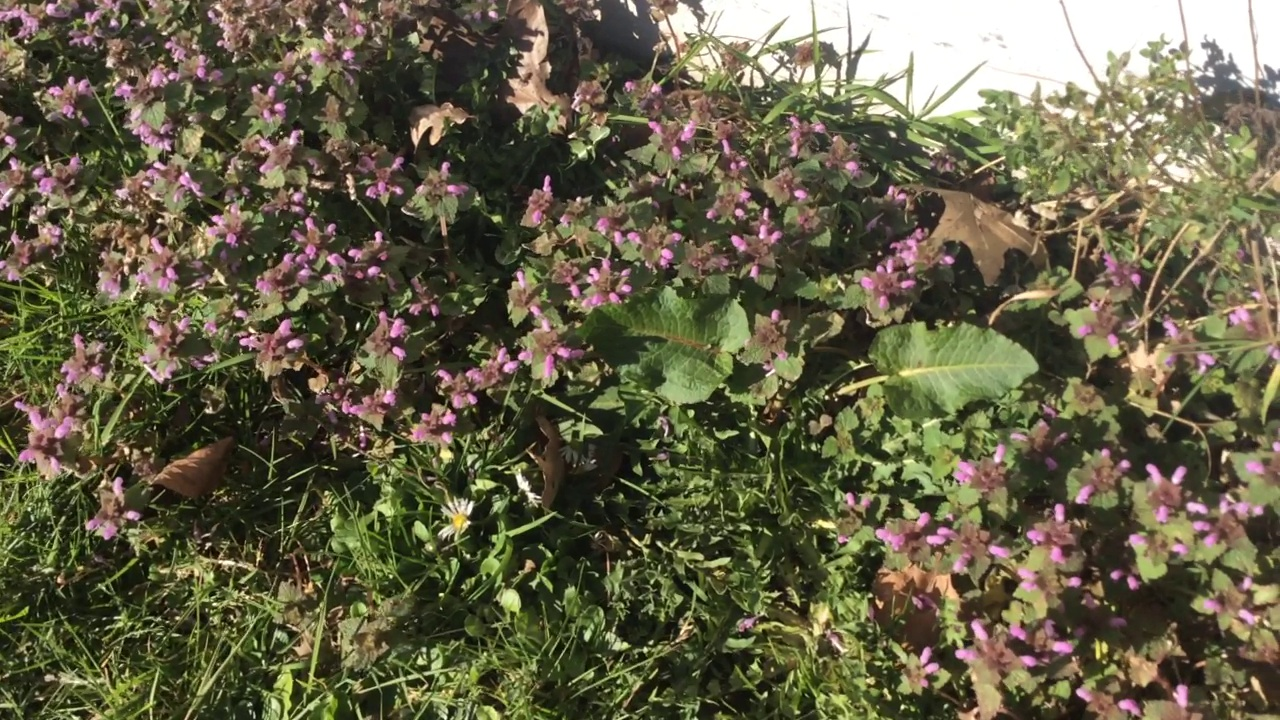rumex: (566, 288, 1042, 418)
